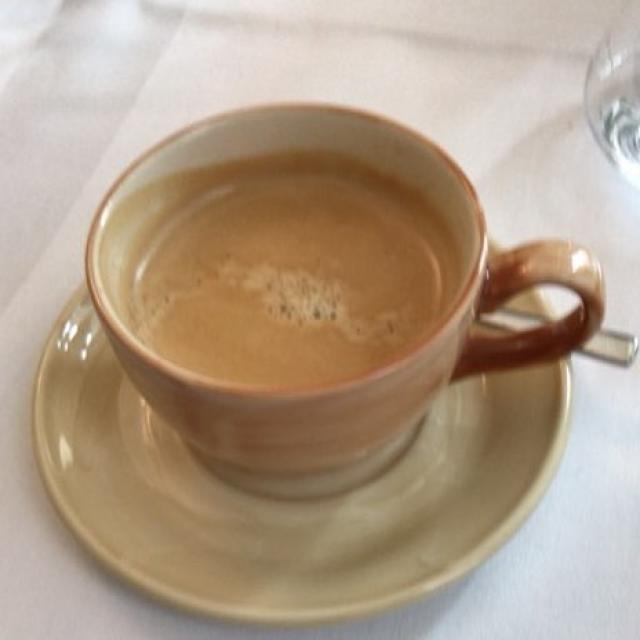coffee: (136, 165, 450, 391)
